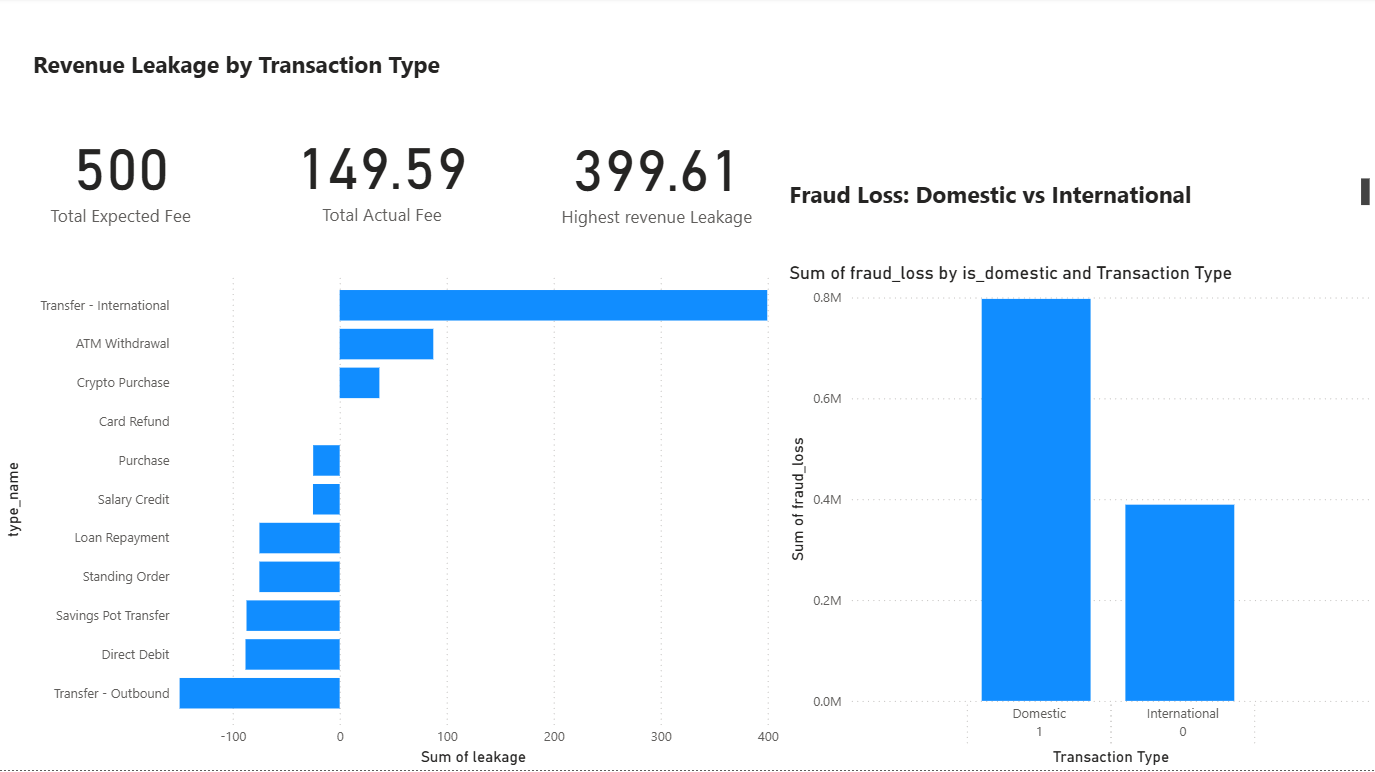

The dashboard page shown, as its layout file describes it:
{"tool":"powerbi","page":{"name":"Page 4","canvas":[1280,720],"ordinal":3},"visuals":[{"type":"clusteredBarChart","fields":{"Category":["Q5.type_name"],"Y":["Sum(Q5.leakage)"]},"box":[0,245.3,730.2,474.4],"z":0},{"type":"card","fields":{"Values":["Max(Q5.leakage)"]},"box":[494.2,84.9,236,161.6],"z":1000},{"type":"card","fields":{"Values":["Max(Q5.expected_fee)"]},"box":[0,83.7,226.7,161.6],"z":2000},{"type":"card","fields":{"Values":["Max(Q5.actual_fee)"]},"box":[226.7,82.6,259.3,162.8],"z":3000},{"type":"clusteredColumnChart","fields":{"Category":["Q10.is_domestic","Q10.Transaction Type"],"Y":["Sum(Q10.fraud_loss)"]},"box":[730.2,246.5,550,473.3],"z":4000},{"type":"textbox","box":[26.7,43,550,53.5],"z":4001},{"type":"textbox","box":[730.2,164,550,50],"z":4002}]}

Visuals, with their boxes in screenshot pixels (x1, y1, x2, y2), scaled from the page's 1280x720 canvas onto the 1375x772 screenshot:
clusteredBarChart - Q5.type_name x Sum(Q5.leakage): [x1=0, y1=263, x2=784, y2=771]
card - Max(Q5.leakage): [x1=531, y1=91, x2=784, y2=264]
card - Max(Q5.expected_fee): [x1=0, y1=90, x2=244, y2=263]
card - Max(Q5.actual_fee): [x1=244, y1=89, x2=522, y2=263]
clusteredColumnChart - Q10.is_domestic x Q10.Transaction Type: [x1=784, y1=264, x2=1374, y2=771]
textbox: [x1=29, y1=46, x2=620, y2=103]
textbox: [x1=784, y1=176, x2=1374, y2=229]
